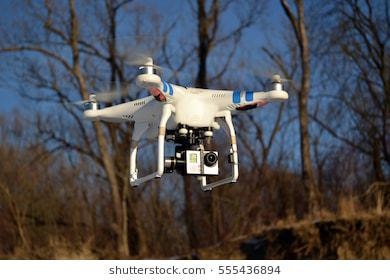drone: (50, 47, 312, 198)
